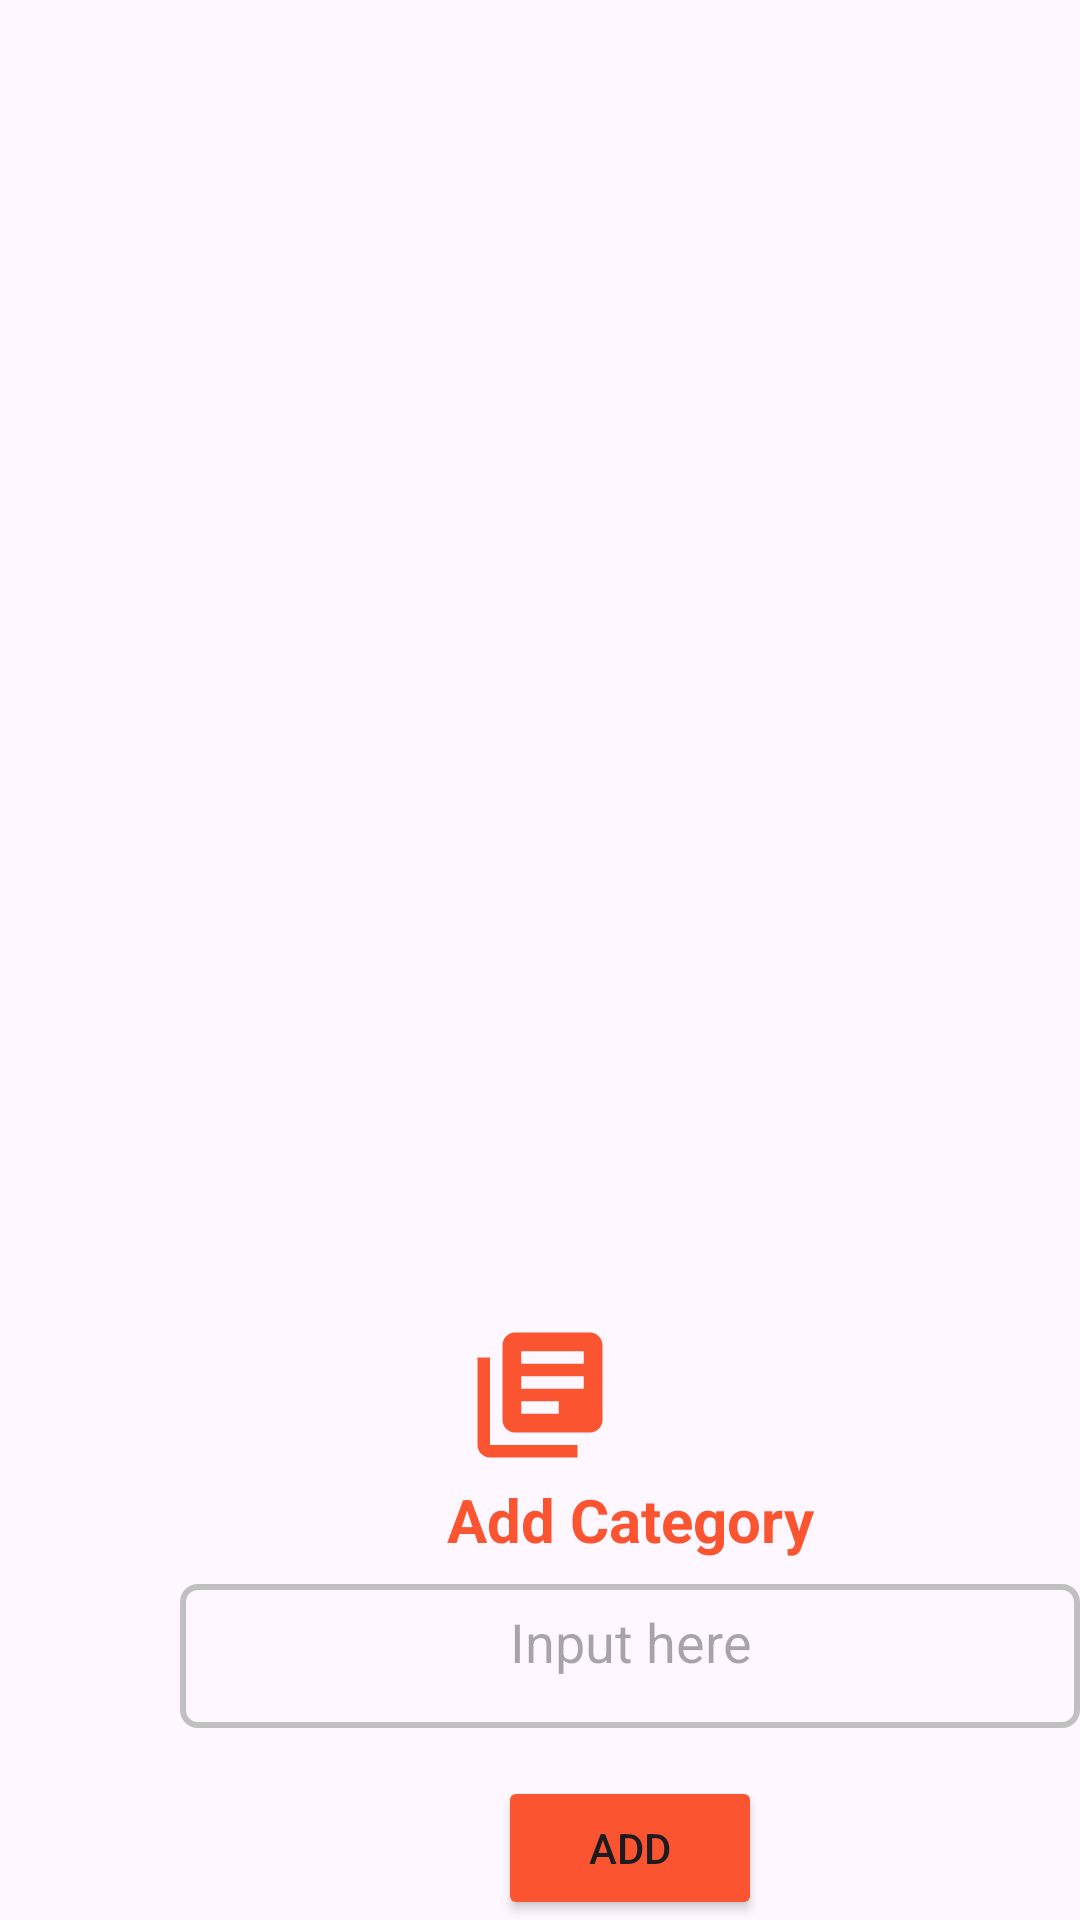

Where icons sit on this 1080w x 1920h app screen, as (x1, y1, x2, y2):
catebook: (477, 1332, 603, 1458)
